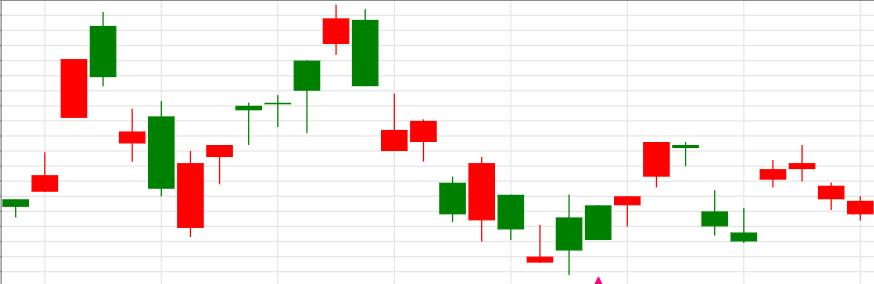hanging_man_fall: (178, 61, 319, 237)
